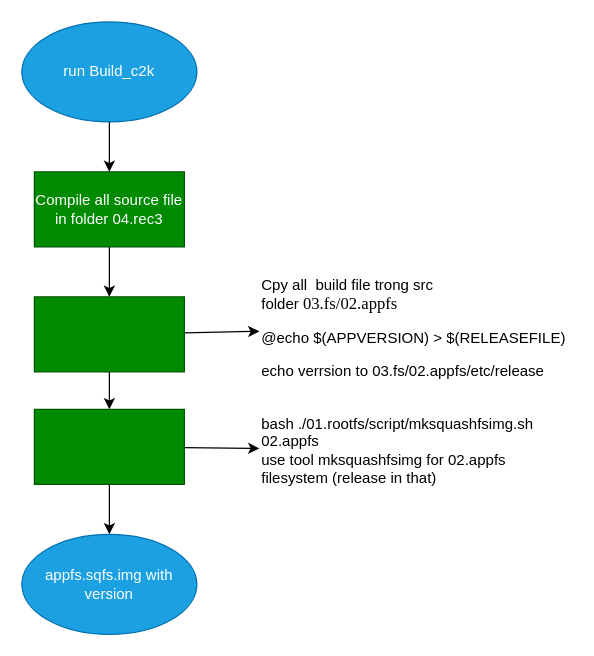
This 594x656 diagram has some shape labels left out. The centre of each missing label's shape, as x and y in pixels:
"Make release verison" belongs at point 108,334.
"run bash SS to create image" belongs at point 108,446.
